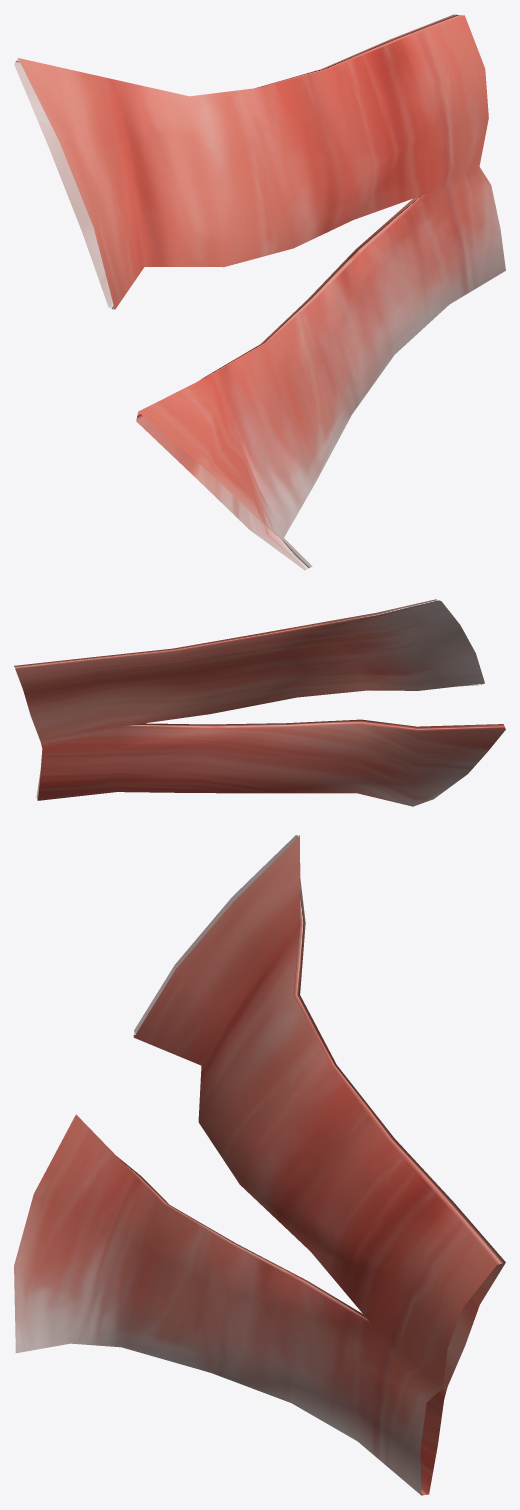
The model's file is Pterygoid_Medial_Muscle_Left.obj.
3 renders of one model, top to bottom at view 1: azimuth 30°, elevation 25°; view 2: azimuth 150°, elevation 25°; view 3: azimuth 270°, elevation 25°, orthographic. The views are drawn at different scales.
Parts seen in each view (by area): view 1: Posterior_Auricular_Muscle_Left:Posterior_Auricular_Muscle_Left1; view 2: Posterior_Auricular_Muscle_Left:Posterior_Auricular_Muscle_Left1; view 3: Posterior_Auricular_Muscle_Left:Posterior_Auricular_Muscle_Left1.
Boxes of the visible parts, x1,y1,x2,y2 form: Posterior_Auricular_Muscle_Left:Posterior_Auricular_Muscle_Left1: (14,14,505,570); Posterior_Auricular_Muscle_Left:Posterior_Auricular_Muscle_Left1: (14,599,505,806); Posterior_Auricular_Muscle_Left:Posterior_Auricular_Muscle_Left1: (14,835,505,1495).
Size of the model in its own units: 0.28 by 0.2142 by 0.2145.
